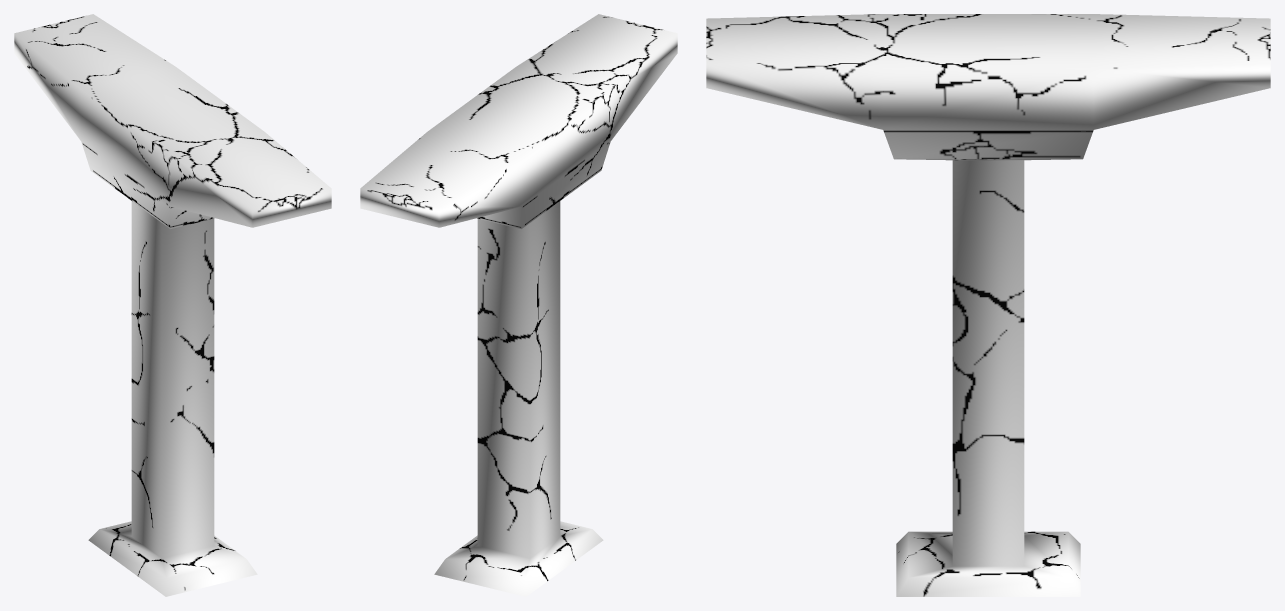
The model's file is Bridge_01_06.fbx.
3 renders of one model, left to right at view 1: azimuth 30°, elevation 25°; view 2: azimuth 150°, elevation 25°; view 3: azimuth 270°, elevation 25°, orthographic. The views are drawn at different scales.
Visible parts, largest first — view 1: Bridge_01_06; view 2: Bridge_01_06; view 3: Bridge_01_06.
Boxes of the visible parts, x1,y1,x2,y2 form: Bridge_01_06: (14, 14, 331, 596); Bridge_01_06: (360, 14, 677, 596); Bridge_01_06: (706, 14, 1270, 596).
Bounding box in the file's own units: 4.14 × 18.67 × 18.05.
